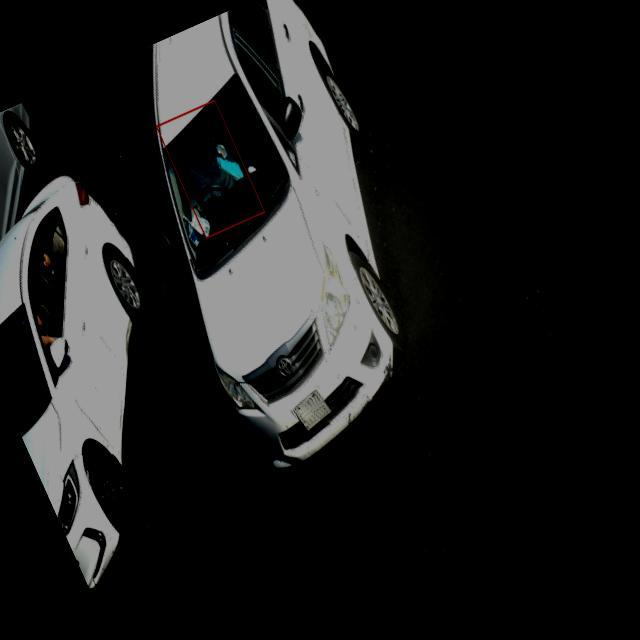windshield: (162, 70, 298, 280), (0, 294, 53, 447)
